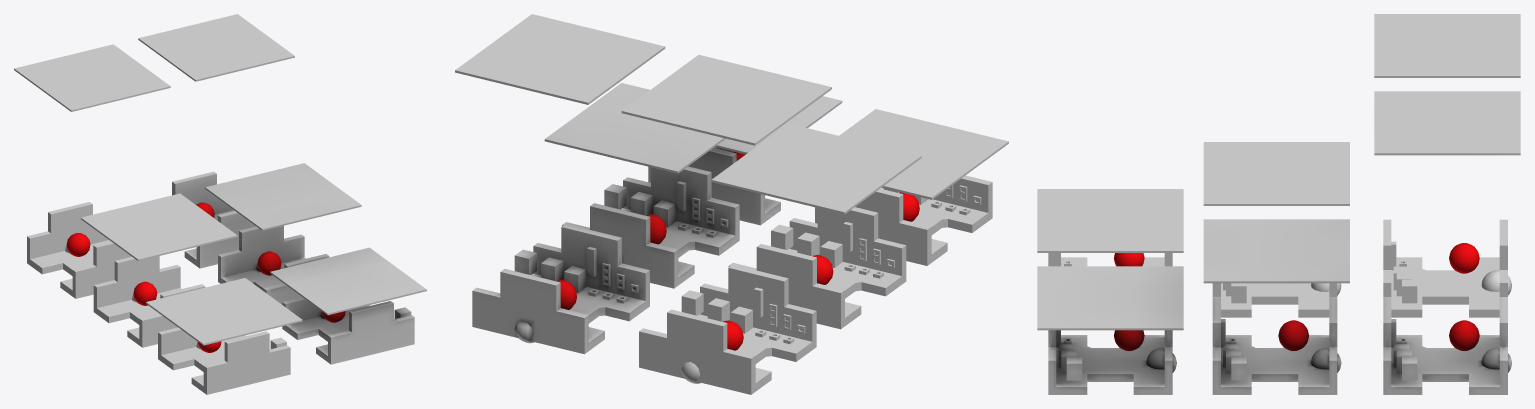
3 views of the same model, side by side, from view 1: azimuth 30°, elevation 25°; view 2: azimuth 150°, elevation 25°; view 3: azimuth 270°, elevation 25° (orthographic). The views are drawn at different scales.
Visible parts, largest first — view 1: blank, example; view 2: blank, example; view 3: example, blank.
Part boxes in pixels (x1=…): blank: x1=14, y1=44, x2=302, y2=394; example: x1=138, y1=14, x2=426, y2=364; blank: x1=621, y1=54, x2=1008, y2=394; example: x1=455, y1=14, x2=842, y2=354; example: x1=1037, y1=91, x2=1520, y2=394; blank: x1=1037, y1=14, x2=1520, y2=317.
Size of the model in its own units: 21.37 by 18.07 by 31.34.
Materials: 2 (1 with a texture image).
